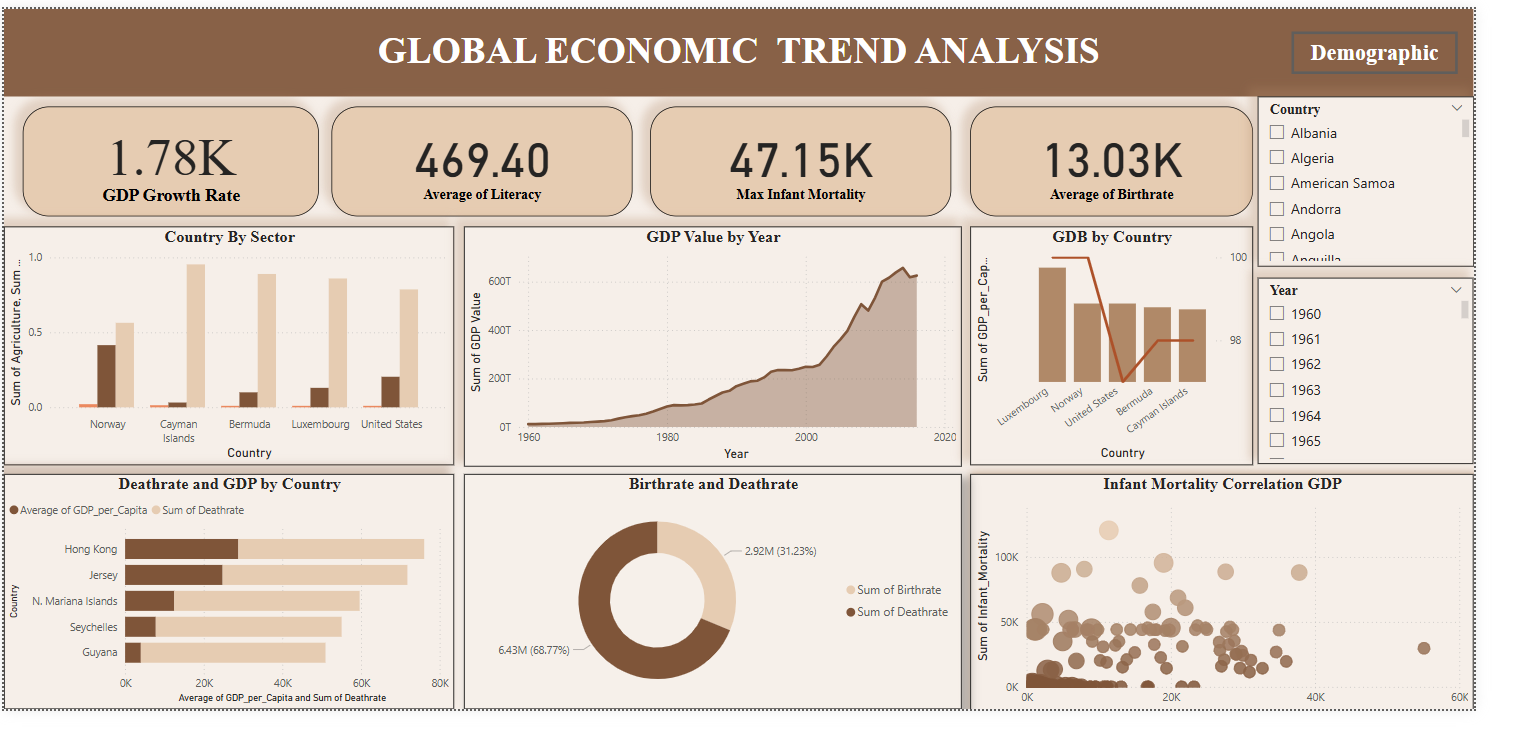

What the dashboard file says about the page in this screenshot:
{"tool":"powerbi","page":{"name":"Economic Dashboard","canvas":[1680,800],"ordinal":0},"visuals":[{"type":"textbox","box":[0,0,1679.6,100.3],"z":0},{"type":"card","fields":{"Values":["GDB by Country.GDP Growth Rate (%)"]},"box":[21.4,111.4,338.6,125.7],"z":1000},{"type":"card","fields":{"Values":["Avg(Countries World.Literacy)"]},"box":[374.3,111.4,344.3,125.7],"z":2000},{"type":"card","fields":{"Values":["Countries World.Max Infant Mortality"]},"box":[738.6,111.4,344.3,125.7],"z":3000},{"type":"card","fields":{"Values":["Avg(Countries World.Birthrate)"]},"box":[1104.3,111.4,322.9,125.7],"z":4000},{"type":"slicer","fields":{"Values":["Countries World.Country"]},"box":[1432.9,100,247.1,194.3],"z":5000},{"type":"slicer","fields":{"Values":["PopulationPerCountry.Year"]},"box":[1433.1,307.8,246.5,213.1],"z":6000},{"type":"lineStackedColumnComboChart","title":"GDB by Country","fields":{"Category":["Countries World.Country"],"Y":["Sum(Countries World.GDP_per_Capita)"],"Y2":["Sum(Countries World.Literacy)"]},"box":[1104.3,248.6,322.9,272.9],"z":7000},{"type":"scatterChart","title":"Infant Mortality Correlation GDP","fields":{"X":["Countries World.GDP_per_Capita"],"Size":["CountNonNull(Countries World.Country)"],"Y":["Sum(Countries World.Infant_Mortality)"]},"box":[1104.9,531.1,575.4,288.4],"z":8000},{"type":"clusteredColumnChart","title":"Country By Sector","fields":{"Category":["Countries World.Country"],"Y":["Sum(Countries World.Agriculture)","Sum(Countries World.Industry)","Sum(Countries World.Service)"]},"box":[0,248.6,514.3,272.9],"z":9000},{"type":"stackedAreaChart","title":"GDP Value by Year","fields":{"Category":["GDB by Country.Year"],"Y":["Sum(GDB by Country.GDP Value)"]},"box":[525.7,248.6,568.6,274.3],"z":10000},{"type":"barChart","title":"Deathrate and GDP by Country","fields":{"Category":["Countries World.Country"],"Y":["Avg(Countries World.GDP_per_Capita)","Sum(Countries World.Deathrate)"]},"box":[0,531.4,514.3,268.6],"z":11000},{"type":"actionButton","box":[1471.4,25.7,190,48.6],"z":12000},{"type":"donutChart","title":" Birthrate and Deathrate","fields":{"Y":["Sum(Countries World.Birthrate)","Sum(Countries World.Deathrate)"]},"box":[525.7,531.4,568.6,268.6],"z":13000}]}

Visuals, with their boxes on the page's 1680x800 design canvas (x1, y1, x2, y2). These are canvas units, not pixel positions in the 1515x756 screenshot, which may show the page scaled, cropped or inside an application window:
textbox: 0/0/1680/100
card - GDB by Country.GDP Growth Rate (%): 21/111/360/237
card - Avg(Countries World.Literacy): 374/111/719/237
card - Countries World.Max Infant Mortality: 739/111/1083/237
card - Avg(Countries World.Birthrate): 1104/111/1427/237
slicer - Countries World.Country: 1433/100/1680/294
slicer - PopulationPerCountry.Year: 1433/308/1680/521
"GDB by Country" lineStackedColumnComboChart: 1104/249/1427/522
"Infant Mortality Correlation GDP" scatterChart: 1105/531/1680/820
"Country By Sector" clusteredColumnChart: 0/249/514/522
"GDP Value by Year" stackedAreaChart: 526/249/1094/523
"Deathrate and GDP by Country" barChart: 0/531/514/800
actionButton: 1471/26/1661/74
" Birthrate and Deathrate" donutChart: 526/531/1094/800
